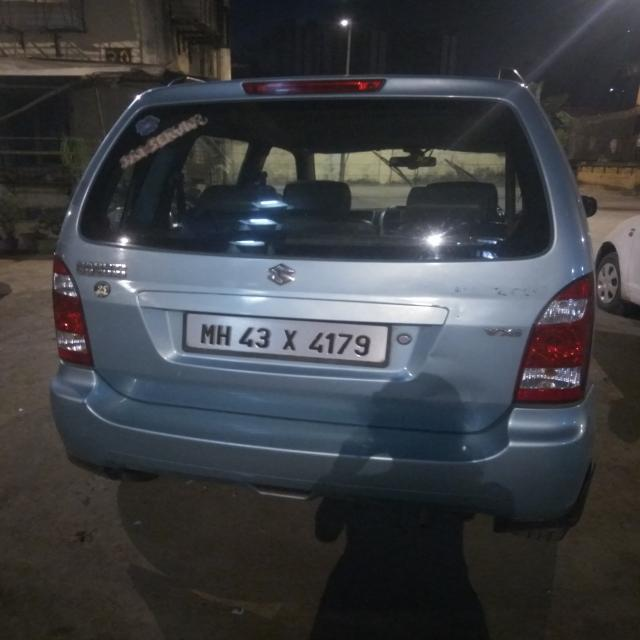Number-Plate: (190, 314, 389, 358)
